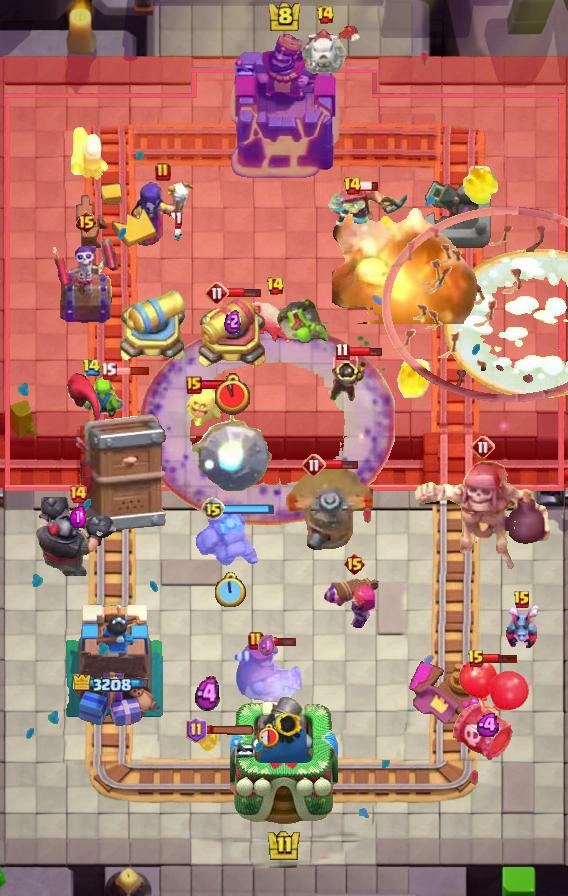axe: (129, 179, 197, 247)
bar-level: (275, 296, 333, 344)
barbarian-barrel: (194, 726, 220, 756)
bat-evolution: (183, 382, 223, 426)
bomber-evolution: (328, 353, 380, 403)
dark-prince: (285, 468, 375, 554)
dart-goblin: (67, 372, 167, 534)
electro-giant: (412, 459, 554, 573)
electro-spirit: (195, 676, 220, 712), (476, 713, 502, 737), (258, 634, 278, 658), (224, 309, 241, 335), (70, 506, 86, 528)
elixir: (215, 373, 250, 415), (214, 572, 247, 610), (256, 723, 280, 750)
emote: (223, 503, 275, 515), (204, 724, 256, 735), (347, 345, 383, 358), (263, 636, 298, 649), (483, 652, 519, 664), (325, 459, 360, 471), (200, 378, 237, 389), (226, 287, 262, 298), (114, 366, 149, 376), (359, 180, 379, 192)
fireball: (325, 183, 407, 257)
giant: (249, 296, 301, 346)
king-tower: (226, 33, 342, 181), (230, 692, 338, 826)
mega-minion: (320, 573, 388, 629)
mini-pekka: (288, 23, 362, 79)
phoenix-big: (444, 249, 568, 399)
phoenix-small: (230, 638, 304, 702)
queen-tower: (61, 599, 166, 731)
rocket: (139, 322, 395, 526)
royal-delivery: (505, 604, 539, 650)
royal-guardian: (35, 494, 121, 576)
royal-recruit: (193, 295, 271, 371), (117, 283, 189, 365)
royal-recruit-evolution: (448, 658, 530, 764)
selected: (73, 674, 155, 696)
skeleton-barrel: (382, 205, 568, 403)
skeleton-king-bar: (52, 239, 120, 325)
text: (205, 281, 229, 305), (471, 435, 495, 459), (302, 453, 326, 477), (201, 497, 225, 521), (74, 210, 97, 234), (342, 552, 365, 576), (185, 717, 206, 743), (68, 484, 88, 504), (317, 5, 336, 25), (342, 176, 361, 196), (266, 276, 285, 296), (83, 358, 102, 377), (513, 590, 531, 610), (467, 649, 485, 669), (99, 360, 117, 379), (155, 162, 171, 182), (248, 631, 264, 651), (186, 376, 202, 394), (335, 343, 350, 361)
tombstone: (69, 124, 111, 182)
valkyrie: (332, 196, 492, 324), (457, 166, 503, 208), (396, 353, 434, 401)
valkyrie-evolution: (196, 510, 262, 572)
x-bow: (191, 413, 274, 493)
zap: (81, 370, 125, 425)
